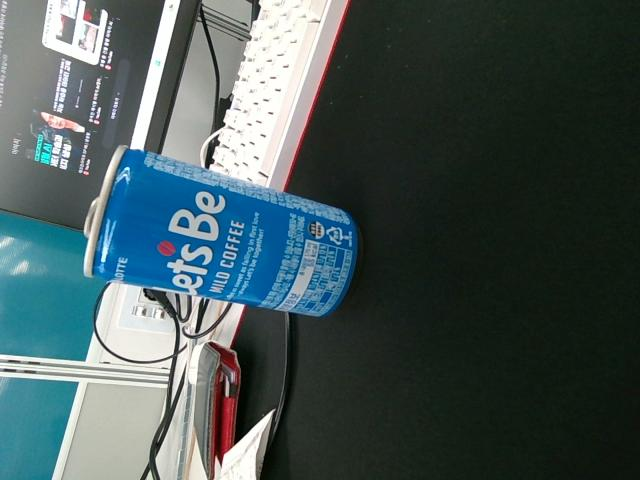letsbe: (84, 146, 359, 319)
